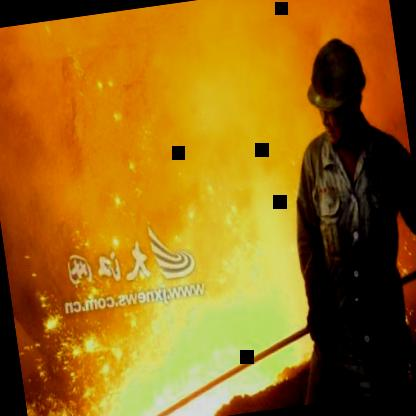helmet: (296, 27, 378, 151)
